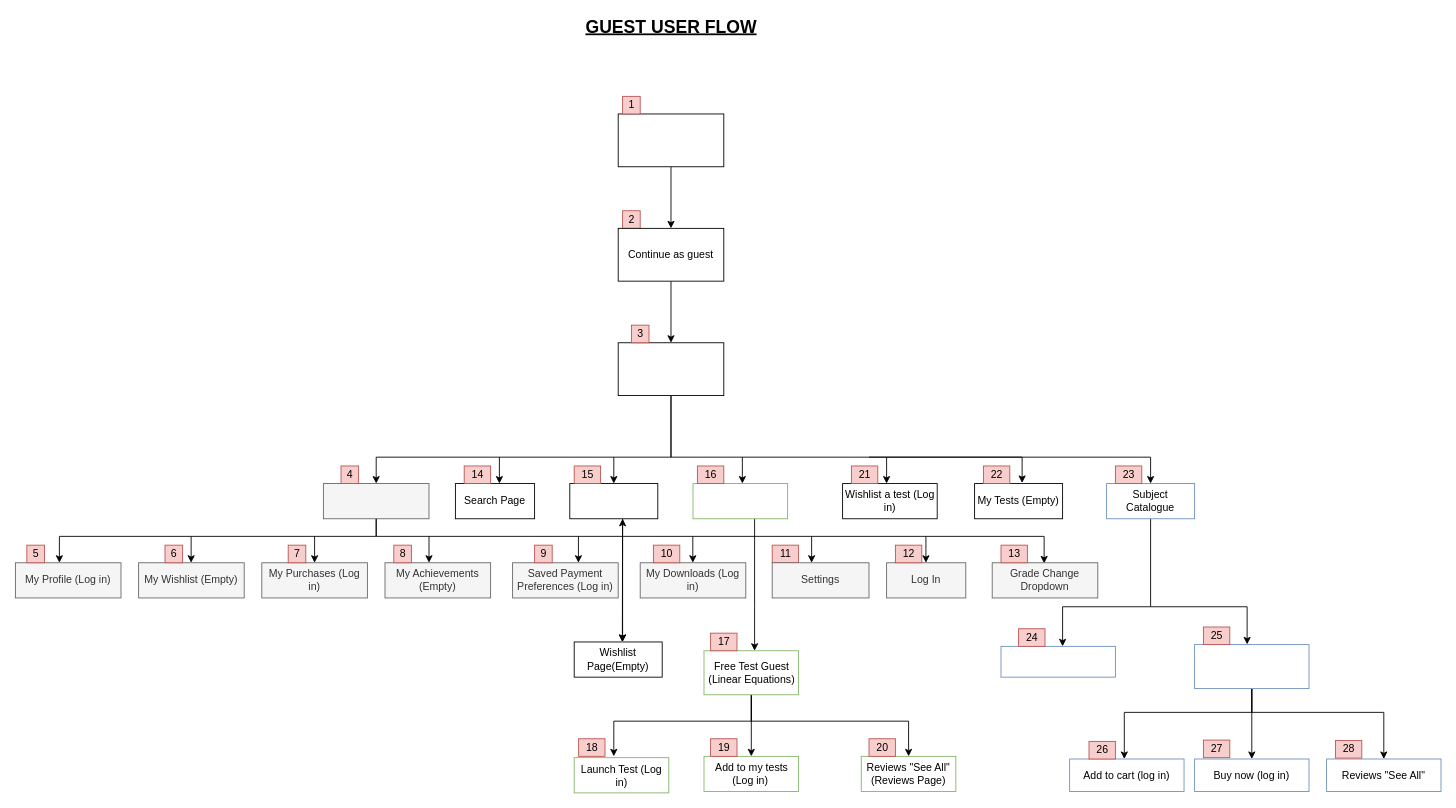
Image size: 1456x808. Some labels were removed from this diagram. The centre of each missing label's shape, as x and y in pixels:
"Properties of Quadrilaterals" Test Details: [1251,666]
Cart page (Empty): [613,501]
Filter: [1057,661]
Grade page: [670,140]
Hamburger menu: [376,501]
Test Catalogue Guest: [670,369]
Test Details (paid or free): [740,501]
